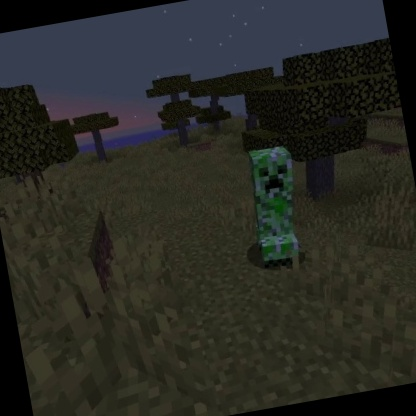creeper: (236, 139, 314, 277)
